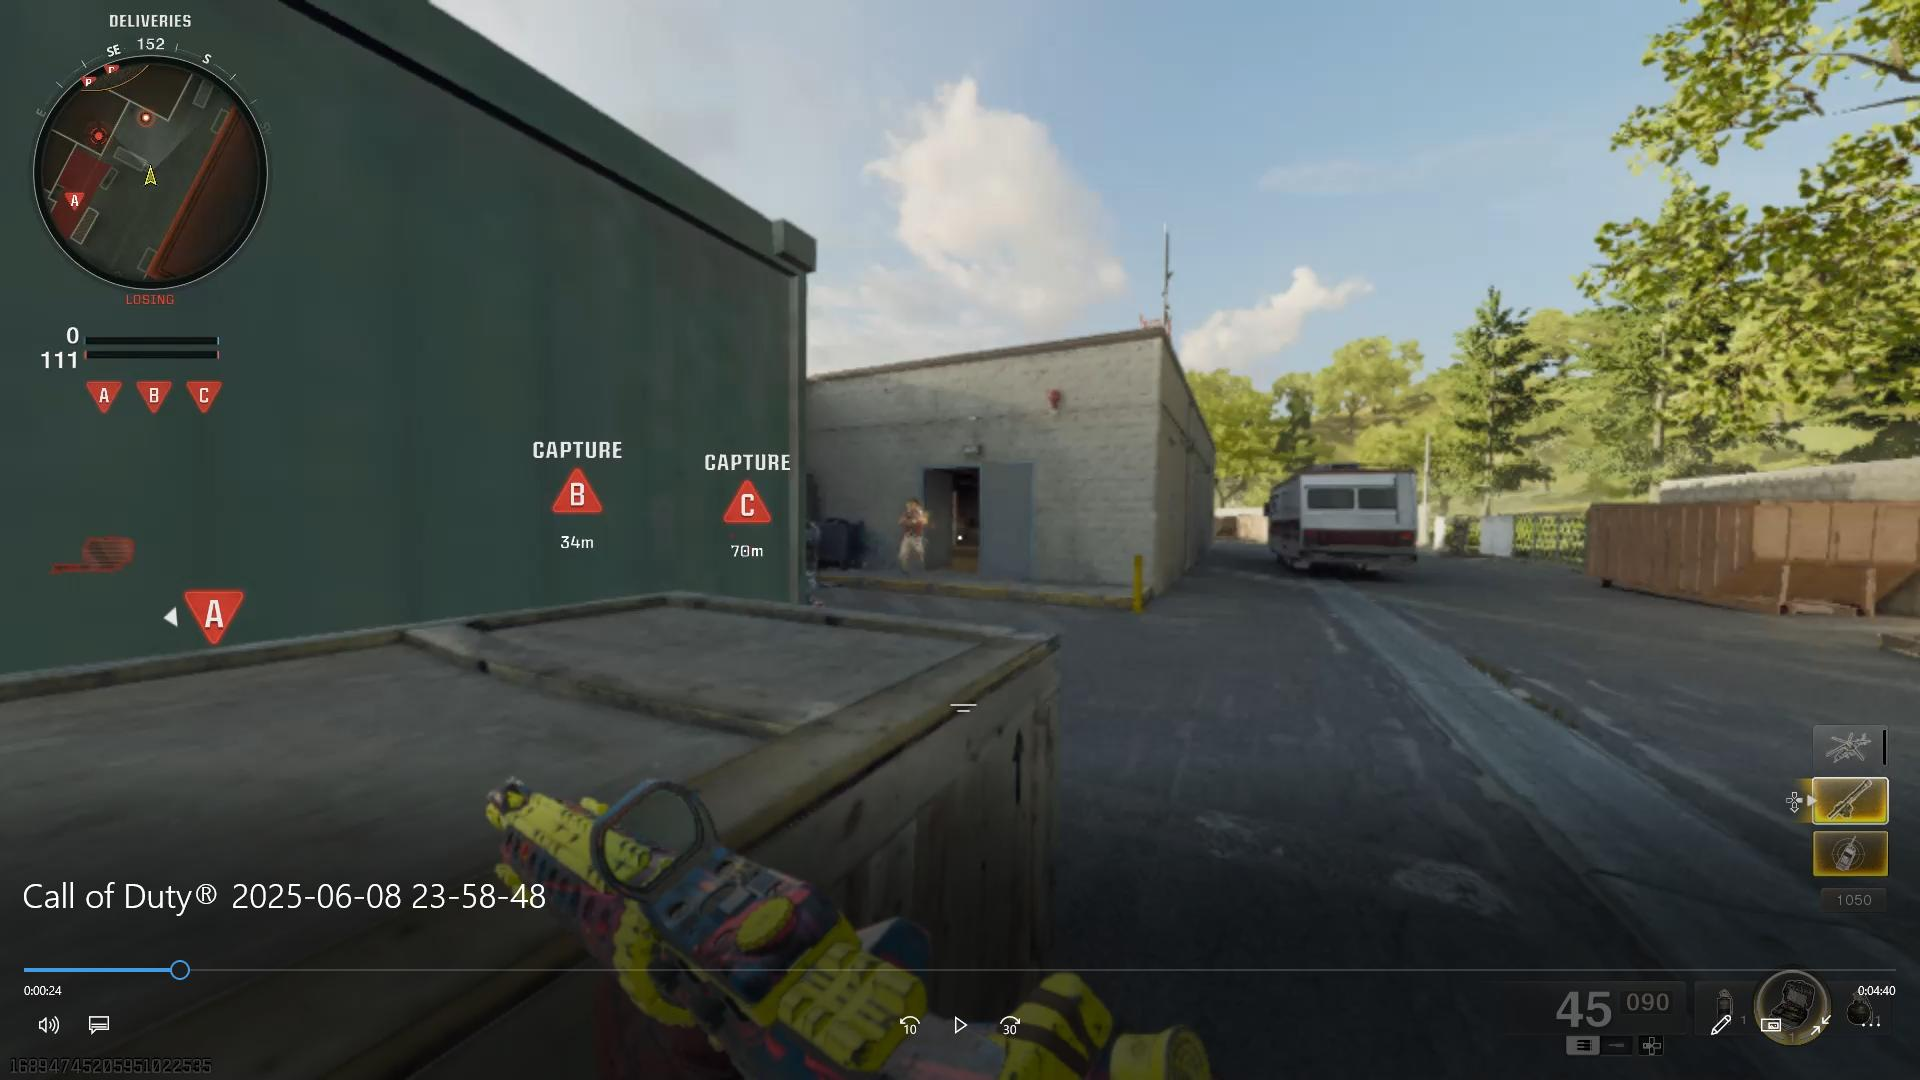Enemy: (881, 487, 930, 571)
